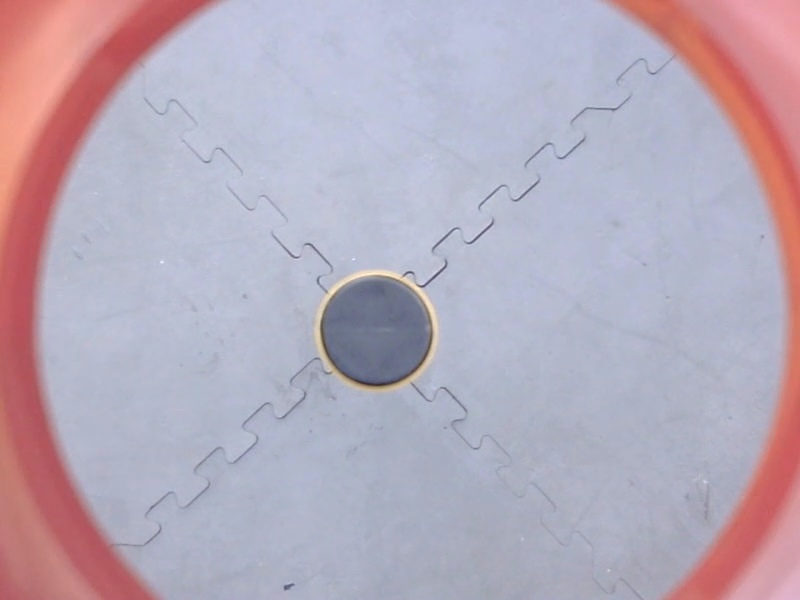tip: (308, 264, 445, 400)
